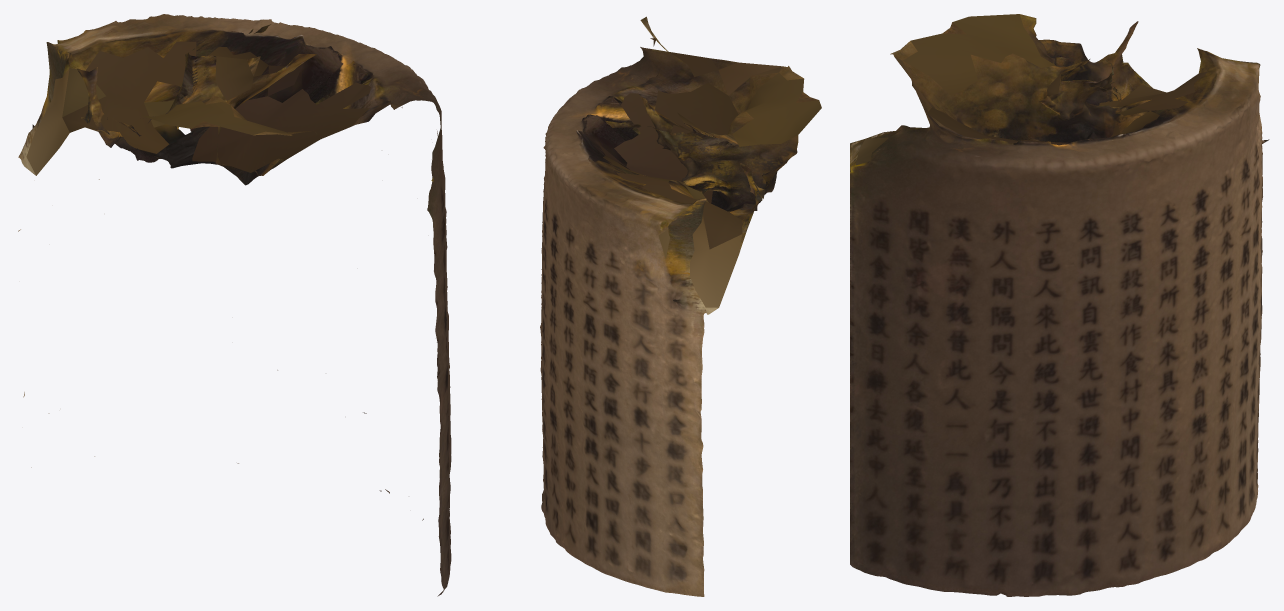
File: modelo miguel .glb
3 views of the same model, side by side, from view 1: azimuth 30°, elevation 25°; view 2: azimuth 150°, elevation 25°; view 3: azimuth 270°, elevation 25° (orthographic). The views are drawn at different scales.
Parts seen in each view (by area): view 1: Object_4; view 2: Object_4; view 3: Object_4.
Boxes of the visible parts, <box> form: Object_4: <box>18,14,451,596</box>; Object_4: <box>540,16,821,596</box>; Object_4: <box>850,14,1269,596</box>.
Size of the model in its own units: 0.2035 by 0.325 by 0.2729.
1 material, 1 textured.
